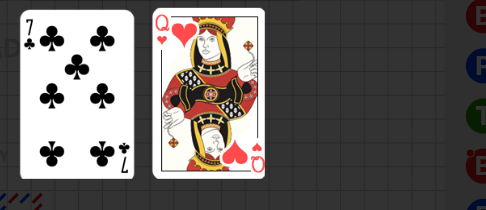7C: (23, 17, 37, 52)
9H: (250, 141, 265, 175)
